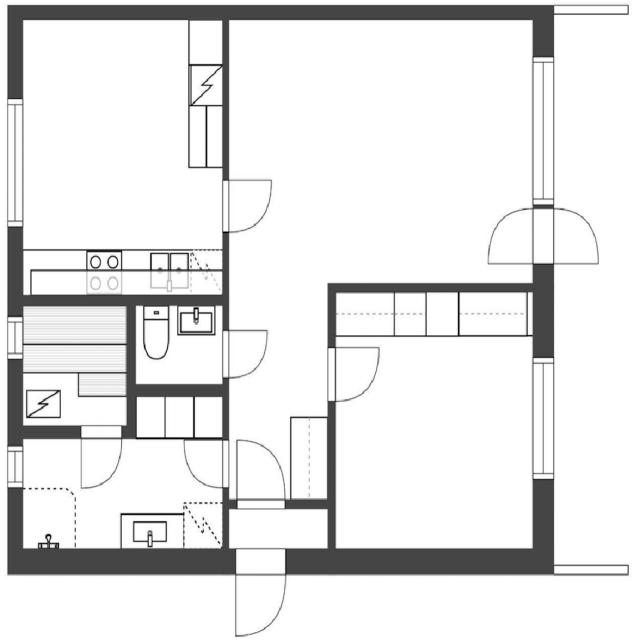door: (236, 548, 286, 636), (532, 207, 599, 263), (488, 207, 554, 263), (237, 439, 284, 507), (327, 346, 379, 400), (80, 424, 121, 488), (222, 180, 270, 232), (184, 439, 229, 486), (222, 330, 266, 377)
